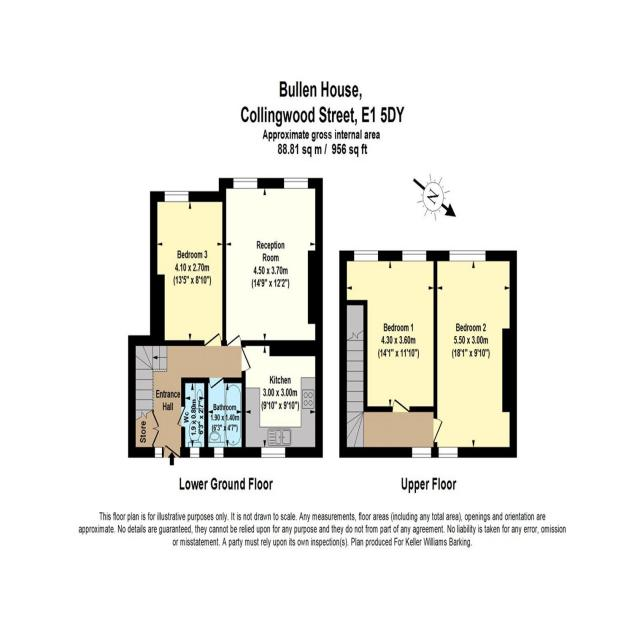DOOR: (433, 417, 444, 444), (241, 346, 252, 372), (204, 331, 222, 346), (392, 398, 410, 412), (163, 444, 181, 458), (226, 333, 242, 346), (176, 405, 185, 428), (209, 377, 224, 389)
ROOM: (219, 177, 323, 356), (433, 250, 518, 458), (339, 250, 438, 413), (150, 191, 227, 346), (241, 340, 323, 458)
WINDOW: (448, 250, 486, 262), (163, 190, 189, 203), (232, 177, 258, 190), (283, 177, 309, 190), (353, 250, 379, 262), (260, 446, 286, 458), (402, 250, 427, 262), (437, 446, 459, 459), (411, 446, 432, 459), (189, 446, 200, 458), (154, 446, 163, 459), (214, 447, 224, 458)
